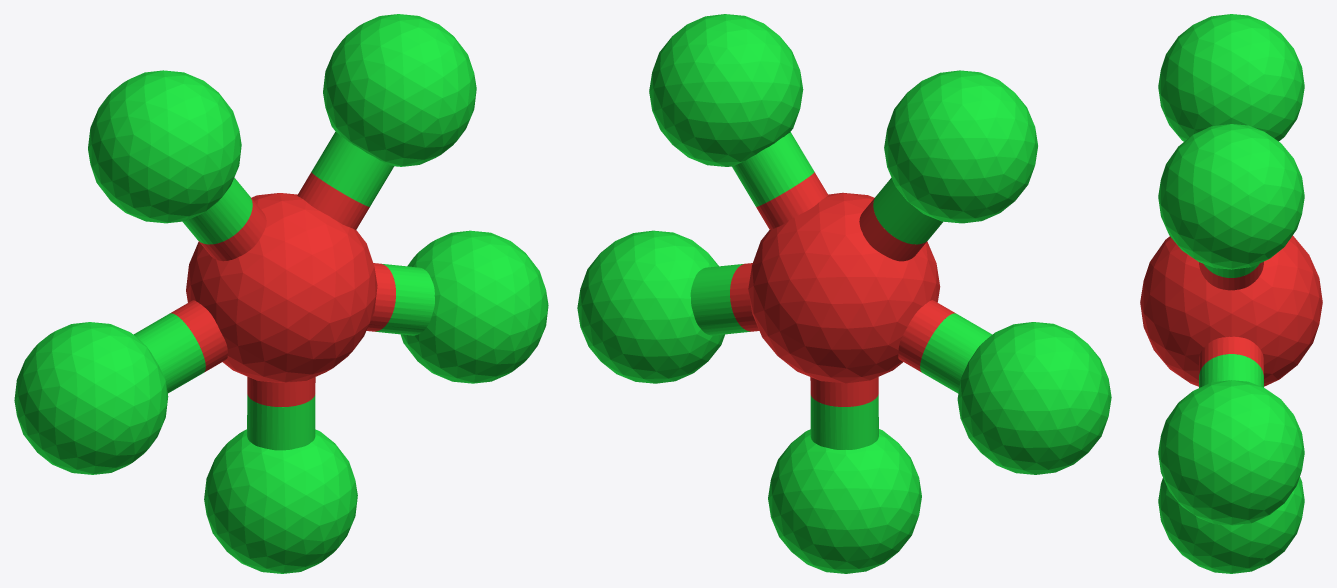
File: BrF5.gltf
3 views of the same model, side by side, from view 1: azimuth 30°, elevation 25°; view 2: azimuth 150°, elevation 25°; view 3: azimuth 270°, elevation 25° (orthographic). The views are drawn at different scales.
Visible parts, largest first — view 1: Shape_IndexedFaceSet, Shape_IndexedFaceSet.004, Shape_IndexedFaceSet.003, Shape_IndexedFaceSet.001, Shape_IndexedFaceSet.002, Shape_IndexedFaceSet.005, Shape_IndexedFaceSet.019, Shape_IndexedFaceSet.013, Shape_IndexedFaceSet.016, Shape_IndexedFaceSet.006, Shape_IndexedFaceSet.010, Shape_IndexedFaceSet.021 (+4 smaller); view 2: Shape_IndexedFaceSet, Shape_IndexedFaceSet.004, Shape_IndexedFaceSet.003, Shape_IndexedFaceSet.001, Shape_IndexedFaceSet.002, Shape_IndexedFaceSet.005, Shape_IndexedFaceSet.019, Shape_IndexedFaceSet.013, Shape_IndexedFaceSet.016, Shape_IndexedFaceSet.006, Shape_IndexedFaceSet.010, Shape_IndexedFaceSet.021 (+4 smaller); view 3: Shape_IndexedFaceSet.005, Shape_IndexedFaceSet.001, Shape_IndexedFaceSet, Shape_IndexedFaceSet.004, Shape_IndexedFaceSet.002, Shape_IndexedFaceSet.006, Shape_IndexedFaceSet.008, Shape_IndexedFaceSet.021, Shape_IndexedFaceSet.019.
Part boxes in pixels (box(x1,y1,x2,y2)): Shape_IndexedFaceSet: box(186, 193, 377, 382); Shape_IndexedFaceSet.004: box(88, 70, 241, 223); Shape_IndexedFaceSet.003: box(14, 322, 168, 474); Shape_IndexedFaceSet.001: box(323, 14, 476, 166); Shape_IndexedFaceSet.002: box(204, 429, 357, 573); Shape_IndexedFaceSet.005: box(400, 230, 548, 383); Shape_IndexedFaceSet.019: box(311, 132, 394, 206); Shape_IndexedFaceSet.013: box(133, 313, 205, 393); Shape_IndexedFaceSet.016: box(247, 394, 315, 450); Shape_IndexedFaceSet.006: box(375, 263, 434, 335); Shape_IndexedFaceSet.010: box(183, 178, 252, 244); Shape_IndexedFaceSet.021: box(297, 172, 369, 229); Shape_IndexedFaceSet: box(748, 192, 940, 383); Shape_IndexedFaceSet.004: box(884, 70, 1037, 223); Shape_IndexedFaceSet.003: box(957, 322, 1111, 474); Shape_IndexedFaceSet.001: box(649, 14, 803, 166); Shape_IndexedFaceSet.002: box(768, 429, 921, 573); Shape_IndexedFaceSet.005: box(577, 230, 724, 383); Shape_IndexedFaceSet.019: box(732, 132, 814, 206); Shape_IndexedFaceSet.013: box(920, 313, 992, 393); Shape_IndexedFaceSet.016: box(810, 394, 878, 449); Shape_IndexedFaceSet.006: box(690, 264, 750, 335); Shape_IndexedFaceSet.010: box(873, 178, 942, 244); Shape_IndexedFaceSet.021: box(756, 172, 828, 229); Shape_IndexedFaceSet.005: box(1158, 380, 1304, 525); Shape_IndexedFaceSet.001: box(1158, 124, 1304, 269); Shape_IndexedFaceSet: box(1140, 235, 1322, 386); Shape_IndexedFaceSet.004: box(1158, 14, 1304, 141); Shape_IndexedFaceSet.002: box(1158, 477, 1304, 573); Shape_IndexedFaceSet.006: box(1199, 354, 1263, 387); Shape_IndexedFaceSet.008: box(1199, 336, 1263, 374); Shape_IndexedFaceSet.021: box(1199, 261, 1263, 290); Shape_IndexedFaceSet.019: box(1204, 263, 1259, 277).
Size of the model in its own units: 1.3 by 1.25 by 0.4204.
